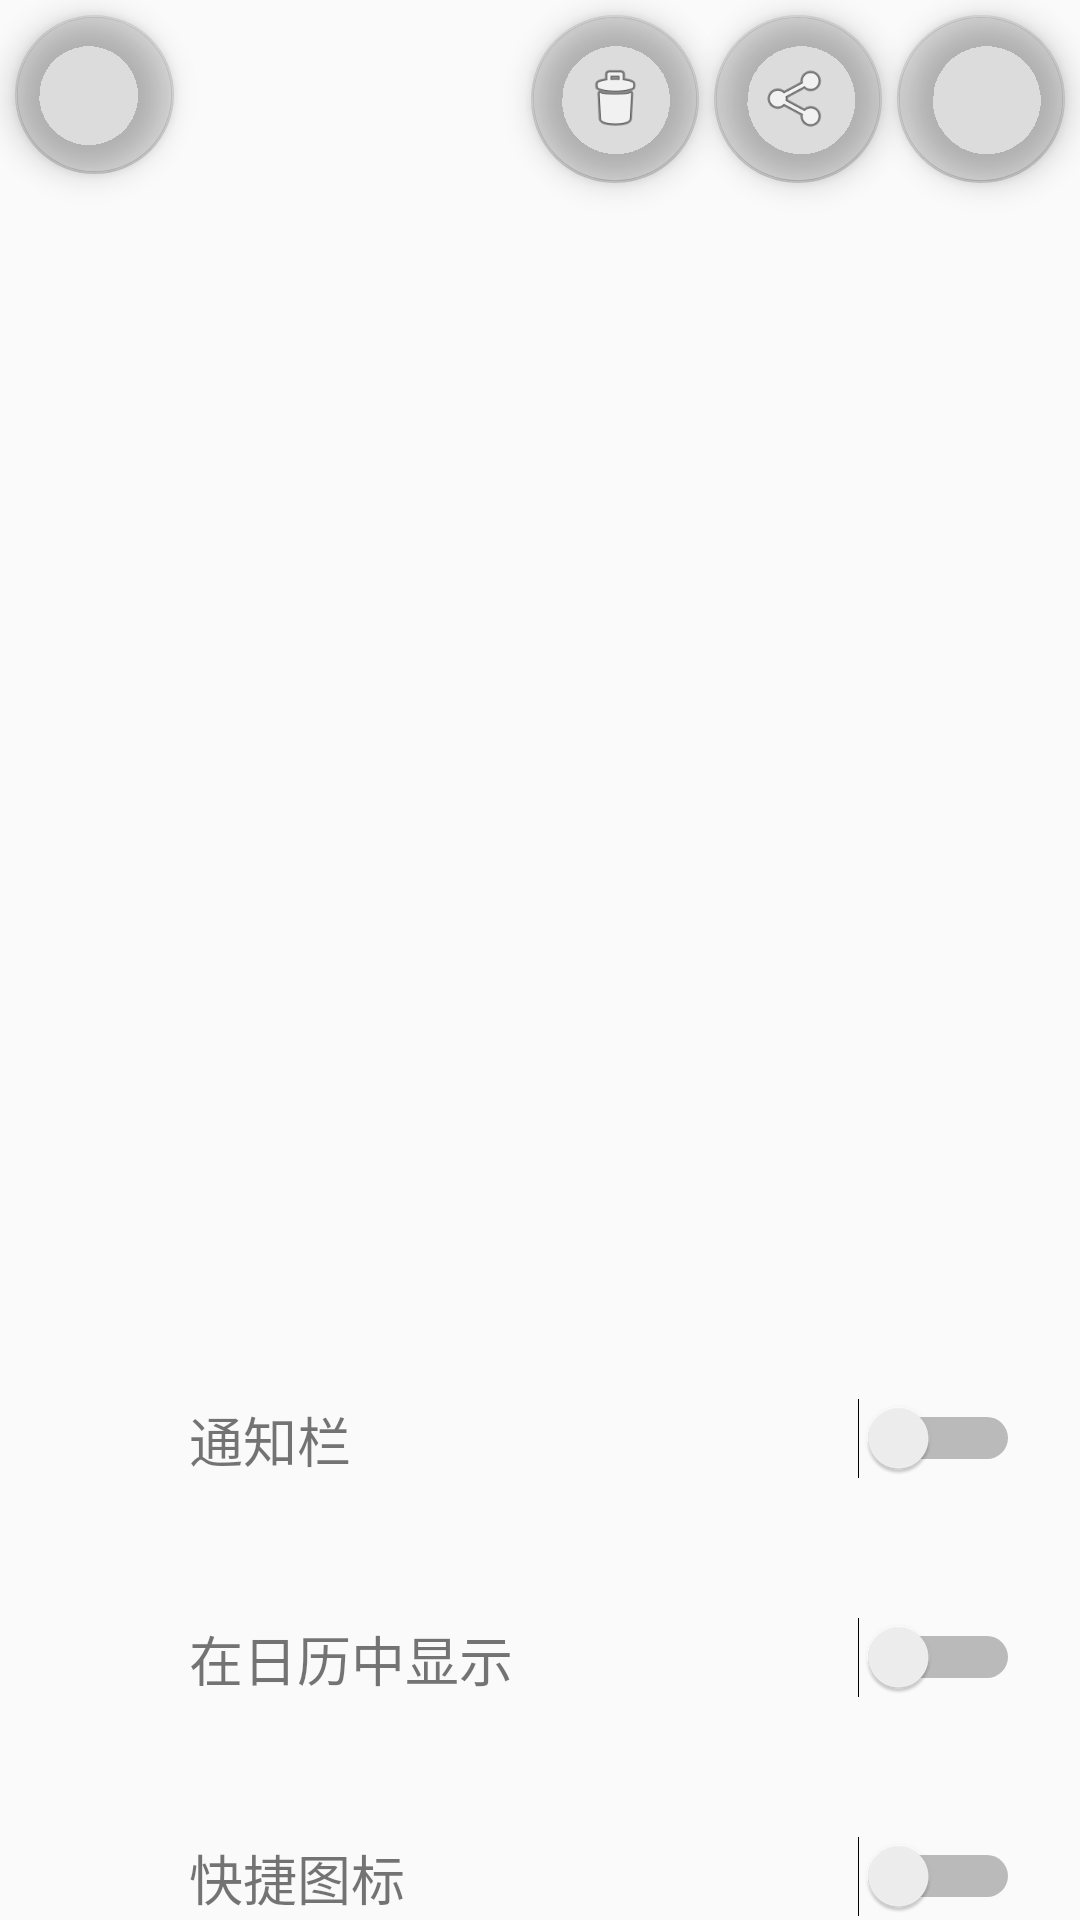

Where to tap for icons on this 1080px x 1920px app screen, as (x,y):
delete: (615,99)
share: (798,99)
